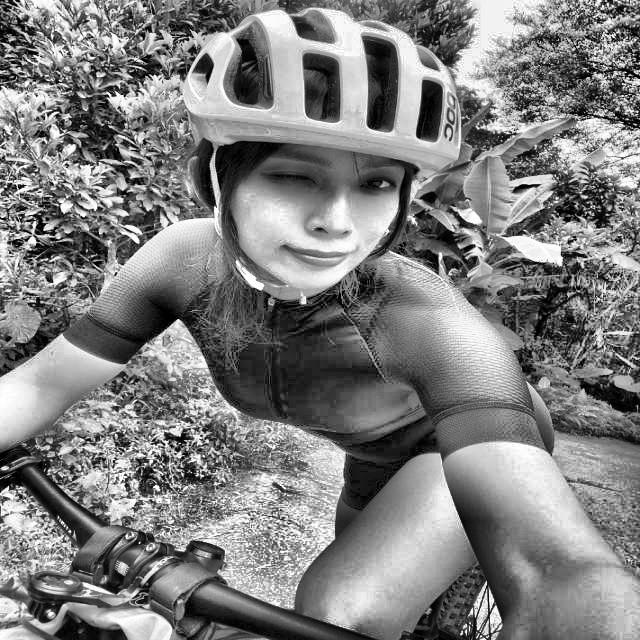Helmet: (172, 0, 470, 316)
